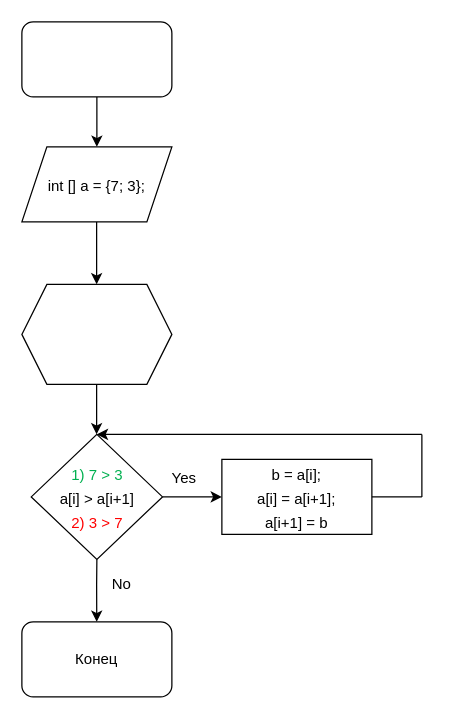
Some shapes in this 454 by 719 pixel diagram are drawn without their labels. Here are the shapes that lost their labels. From the top down, the centre of each, then its label:
point (96, 59): Начало
point (96, 333): i = 0; i < a.length - 1; i++
